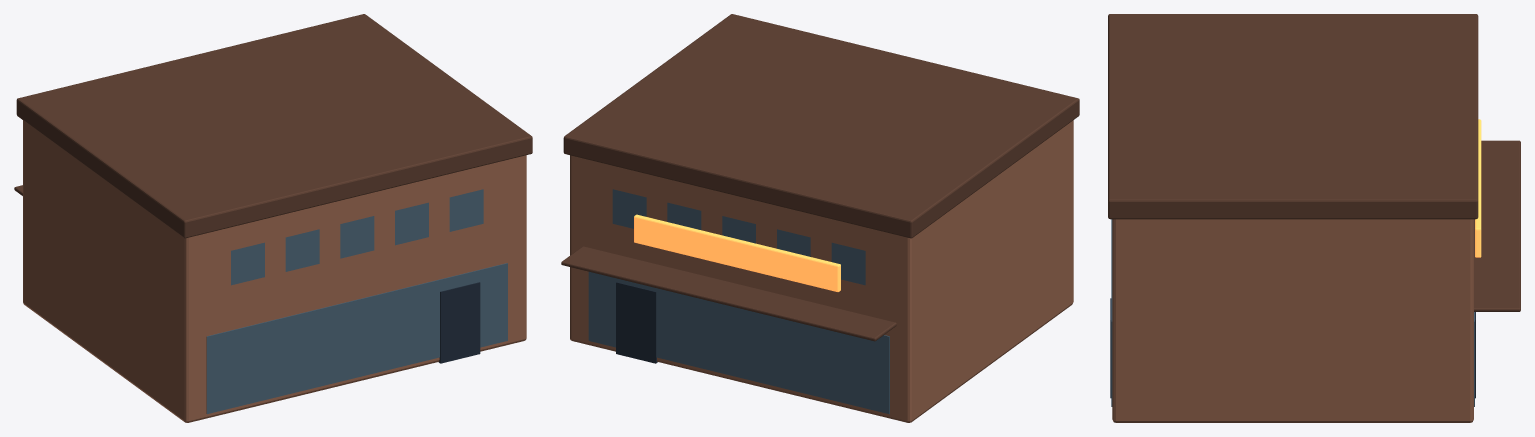
Rendered from bld_shop_a.glb.
3 views of the same model, side by side, from view 1: azimuth 30°, elevation 25°; view 2: azimuth 150°, elevation 25°; view 3: azimuth 270°, elevation 25° (orthographic). The views are drawn at different scales.
Visible parts, largest first — view 1: Parapet, Shell, Storefront, Windows_B, Door; view 2: Parapet, Shell, Storefront, Awning, Sign, Windows, Door; view 3: Parapet, Shell, Awning, Sign, Storefront.
Part boxes in pixels (x1,y1,x2,y2): Parapet: (16,14,532,238); Shell: (23,120,526,422); Storefront: (206,263,507,414); Windows_B: (231,189,483,285); Door: (438,282,480,363); Parapet: (563,14,1079,238); Shell: (570,120,1073,422); Storefront: (588,271,889,414); Awning: (561,246,896,341); Sign: (634,214,840,291); Windows: (612,189,865,285); Door: (616,282,657,363); Parapet: (1108,14,1478,219); Shell: (1112,219,1473,422); Awning: (1474,140,1520,311); Sign: (1475,119,1481,257); Storefront: (1111,219,1474,406).
Bounding box in the file's own units: 12.24 × 6.9 × 11.42.
